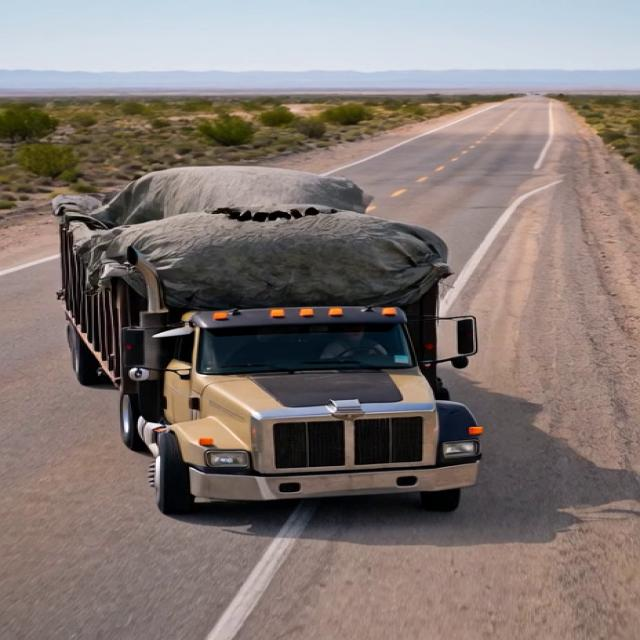Box: (53, 175, 490, 338)
Truck: (31, 150, 519, 518)
